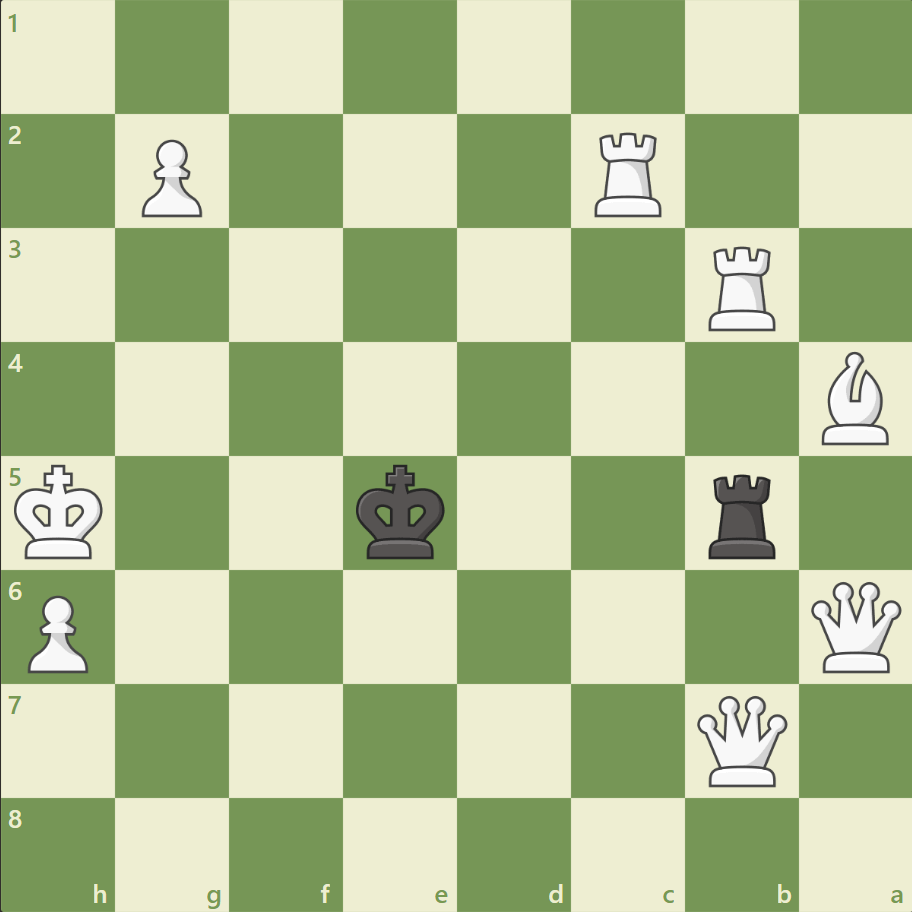B: (812, 347, 896, 449)
K: (11, 458, 111, 566)
P: (20, 586, 95, 677), (133, 132, 208, 223)
Q: (805, 576, 904, 676), (691, 690, 790, 789)
R: (700, 239, 783, 336), (587, 125, 670, 222)
k: (351, 458, 451, 566)
r: (700, 466, 783, 563)
